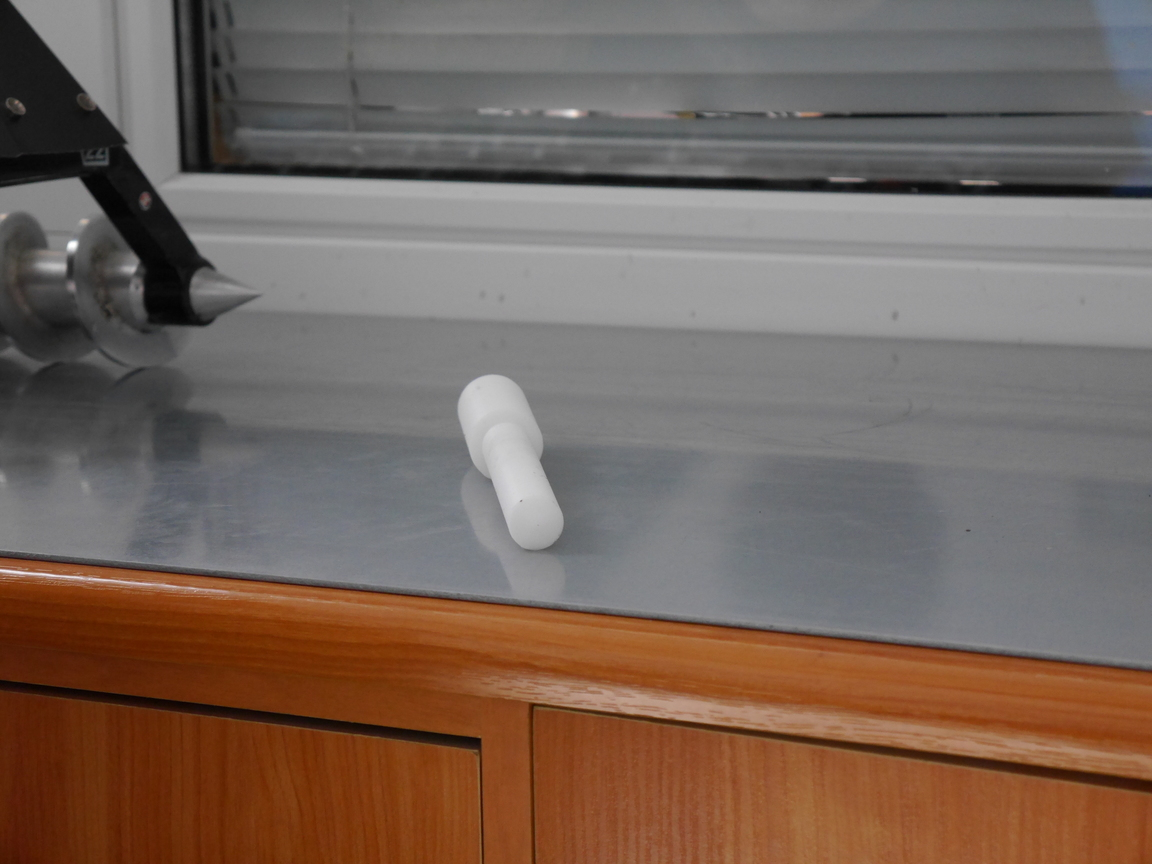cargo_g: (457, 374, 566, 553)
